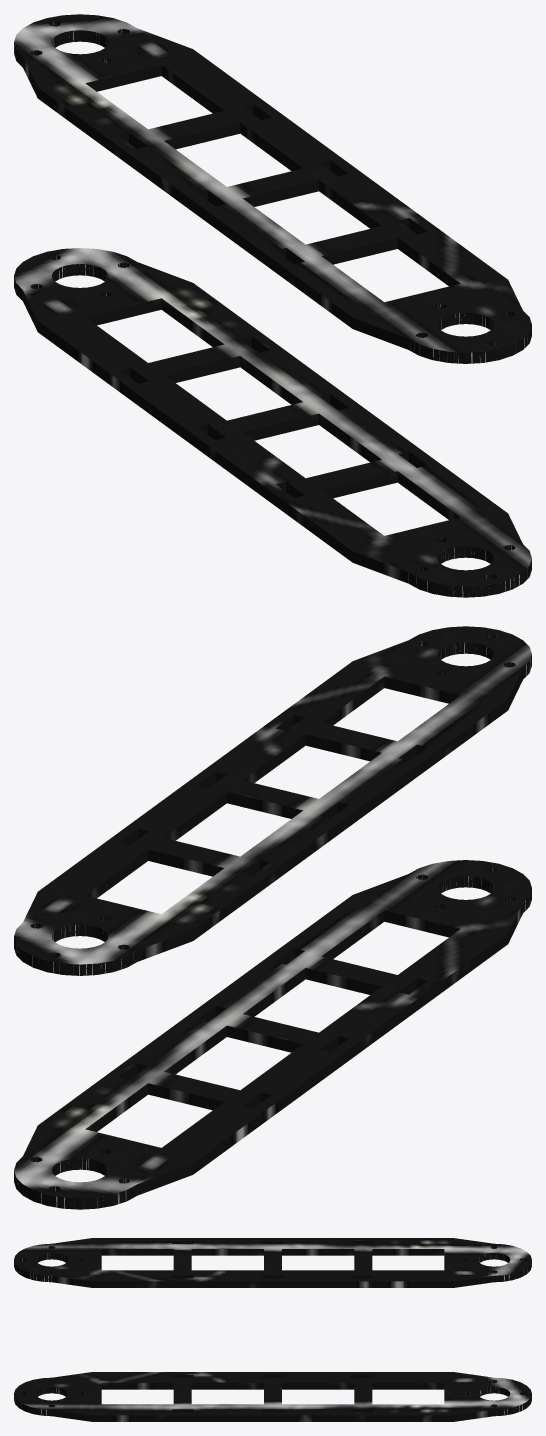
The picture shows the model from 3 angles, top to bottom: view 1: azimuth 30°, elevation 25°; view 2: azimuth 150°, elevation 25°; view 3: azimuth 270°, elevation 25°; orthographic projection. The views are drawn at different scales.
Parts seen in each view (by area): view 1: mesh_1_manipulator_link1_100-5; view 2: mesh_1_manipulator_link1_100-5; view 3: mesh_1_manipulator_link1_100-5.
Boxes of the visible parts, x1,y1,x2,y2 form: mesh_1_manipulator_link1_100-5: (14, 14, 531, 597); mesh_1_manipulator_link1_100-5: (14, 626, 531, 1209); mesh_1_manipulator_link1_100-5: (14, 1238, 531, 1421).
Bounding box in the file's own units: 0.0285 × 0.1435 × 0.0429.
1 material, 1 textured.
